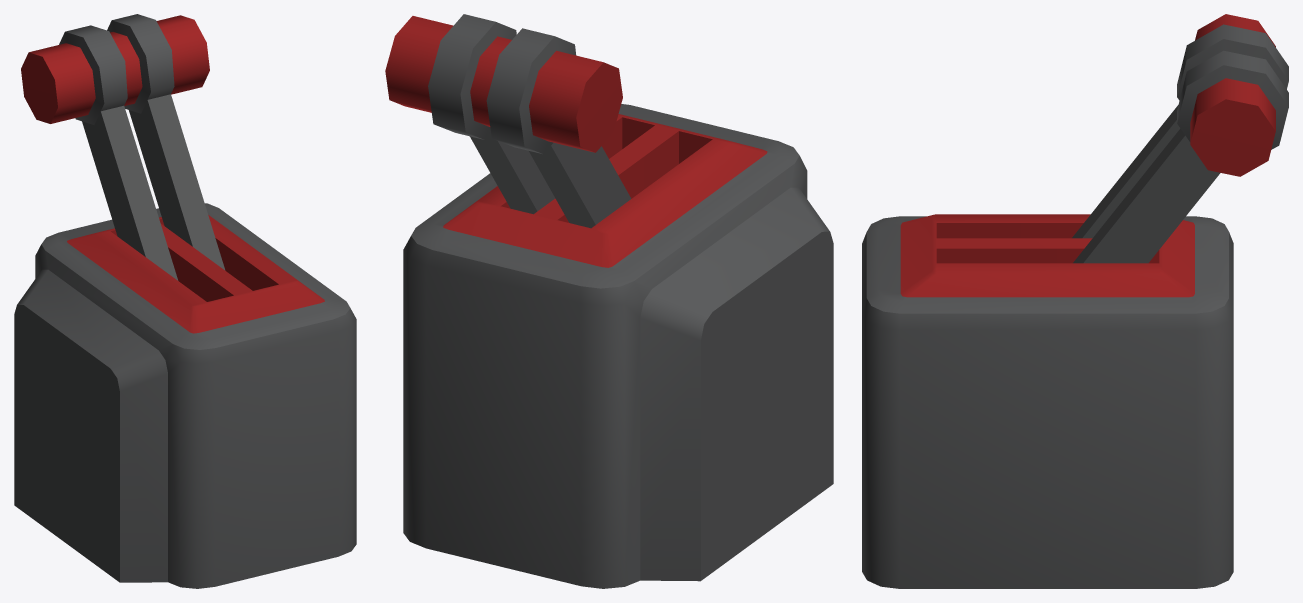
File: Switch.fbx
3 views of the same model, side by side, from view 1: azimuth 30°, elevation 25°; view 2: azimuth 150°, elevation 25°; view 3: azimuth 270°, elevation 25° (orthographic). The views are drawn at different scales.
Parts seen in each view (by area): view 1: Cube, Cube.004; view 2: Cube, Cube.004; view 3: Cube, Cube.004.
Boxes of the visible parts, x1,y1,x2,y2 form: Cube: [14, 203, 356, 588]; Cube.004: [21, 14, 225, 280]; Cube: [403, 104, 833, 588]; Cube.004: [385, 14, 631, 228]; Cube: [862, 214, 1233, 588]; Cube.004: [1072, 14, 1288, 263].
Bounding box in the file's own units: 143 × 265 × 209.
